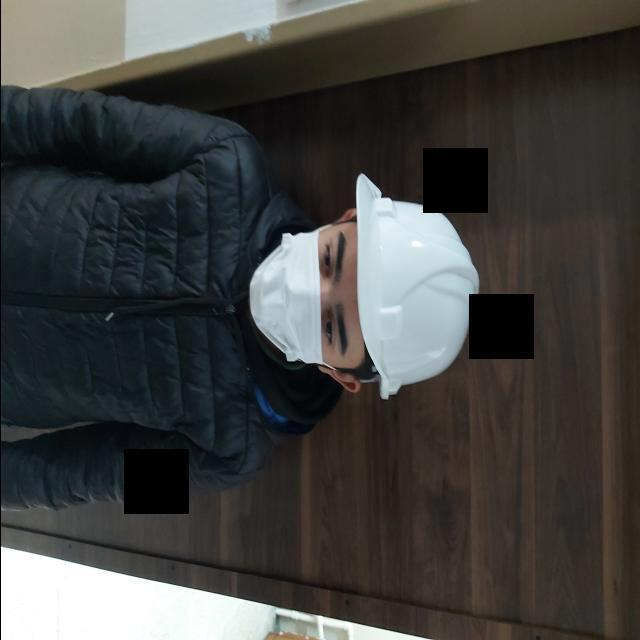helmet: (354, 172, 479, 400)
